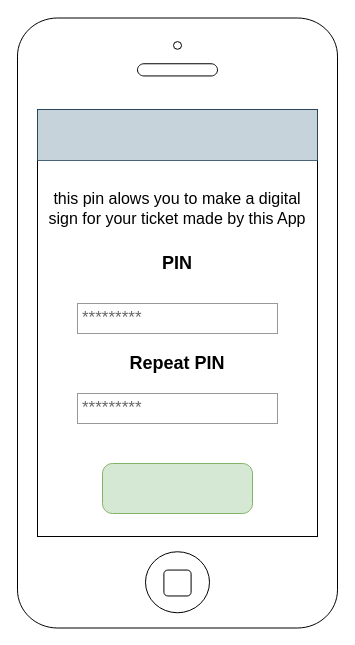
The diagram is 355 pixels wide and 645 high, and some of its shapes have lost their labels. The shapes that lost their labels are listed below. From the top down, each one's box as (x1, y1, x2, y2) in pixels, then its label:
(36, 108, 318, 160): Officer PIN
(102, 462, 252, 514): Save
